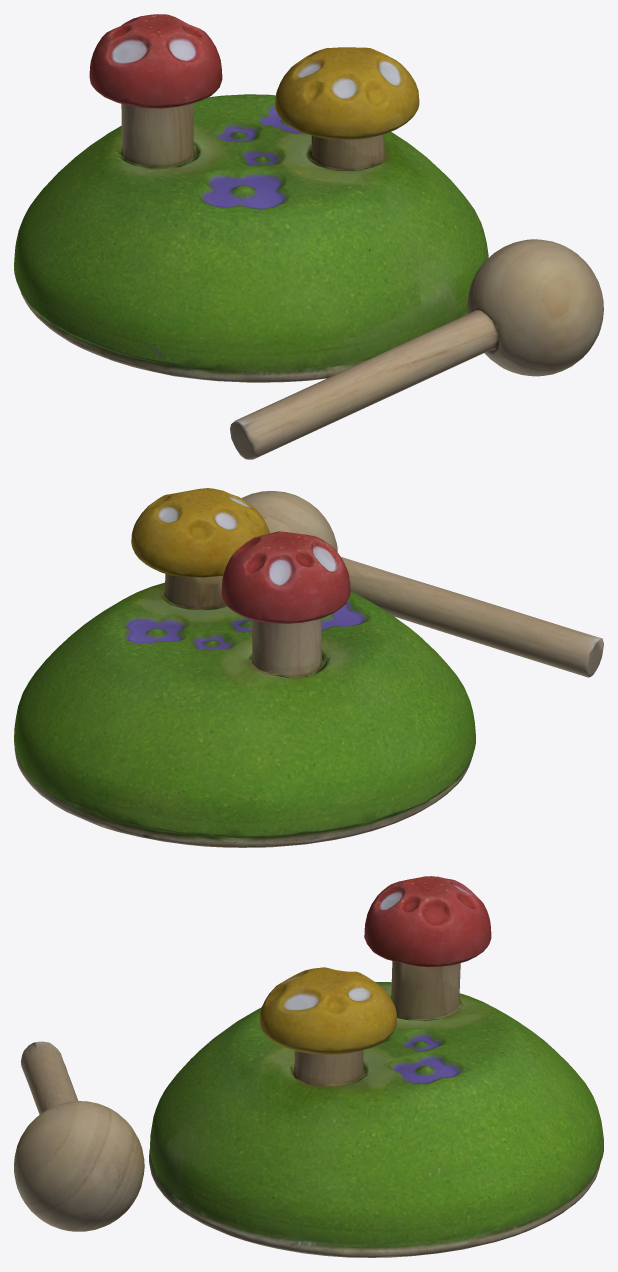
Rendered from POUNDING_MUSHROOMS.glb.
The picture shows the model from 3 angles, top to bottom: view 1: azimuth 30°, elevation 25°; view 2: azimuth 150°, elevation 25°; view 3: azimuth 270°, elevation 25°; orthographic projection. The views are drawn at different scales.
Parts seen in each view (by area): view 1: POUNDING_MUSHROOMS; view 2: POUNDING_MUSHROOMS; view 3: POUNDING_MUSHROOMS.
Boxes of the visible parts, x1=… form: POUNDING_MUSHROOMS: x1=14, y1=14, x2=603, y2=459; POUNDING_MUSHROOMS: x1=14, y1=488, x2=603, y2=847; POUNDING_MUSHROOMS: x1=14, y1=876, x2=603, y2=1257.
Bounding box in the file's own units: 0.1648 × 0.0991 × 0.2135.
Materials: 1 (1 with a texture image).
